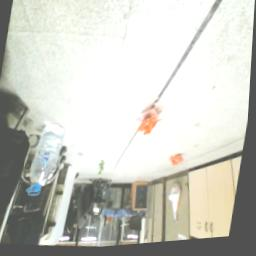herb: (99, 162, 109, 179)
wild: (136, 115, 165, 142), (170, 156, 189, 172)
